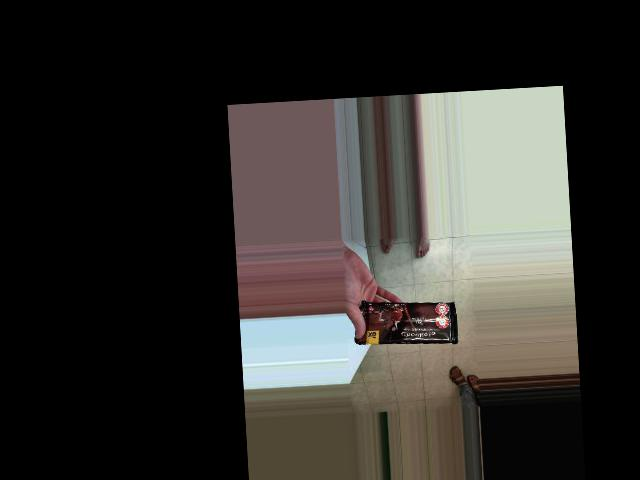chocolate: (402, 282, 466, 396)
